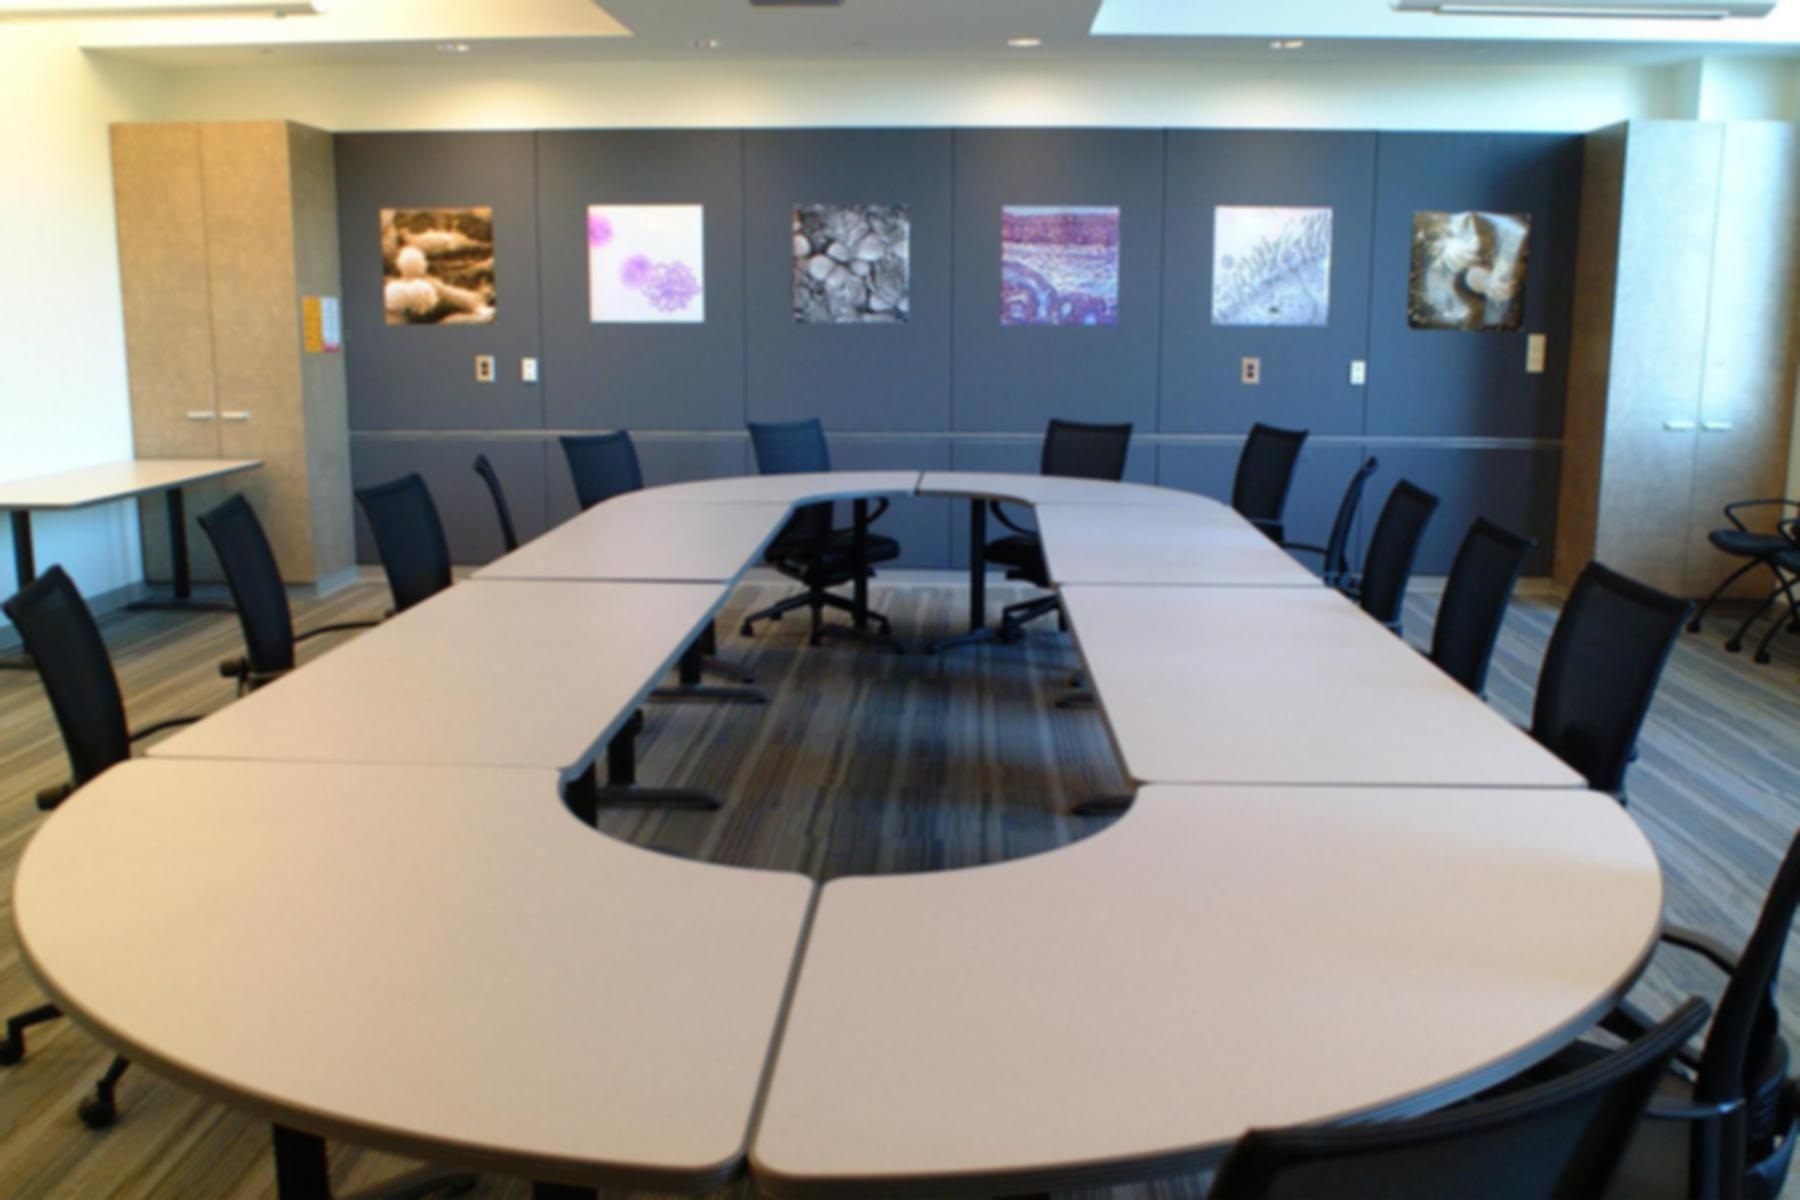Armario: (133, 125, 327, 583)
